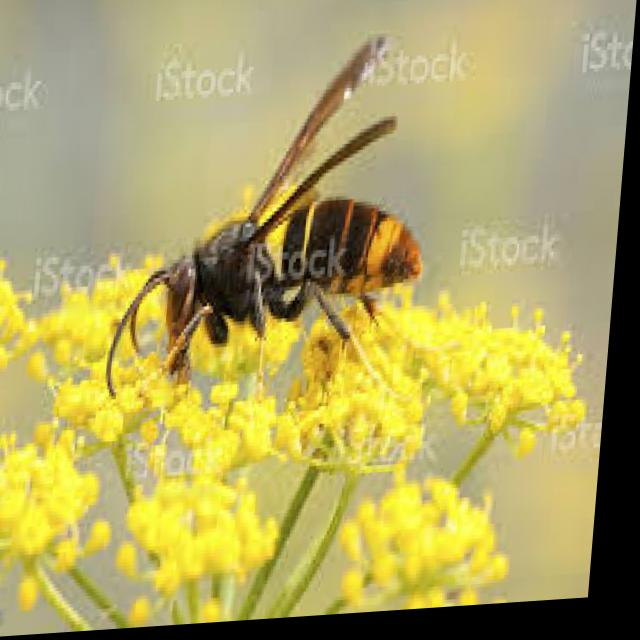Vespa Velutina: (99, 20, 449, 431)
